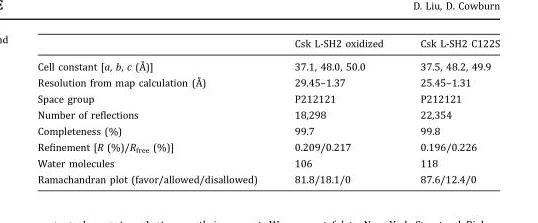table: (36, 36, 499, 184)
table column: (36, 36, 275, 184), (275, 36, 401, 184), (401, 36, 499, 184)
table column header: (36, 36, 499, 54)
table row: (36, 54, 499, 73), (36, 36, 499, 54), (36, 89, 499, 106), (36, 138, 499, 155), (36, 73, 499, 89), (36, 106, 499, 122), (36, 122, 499, 138), (36, 155, 499, 170), (36, 170, 499, 184)
